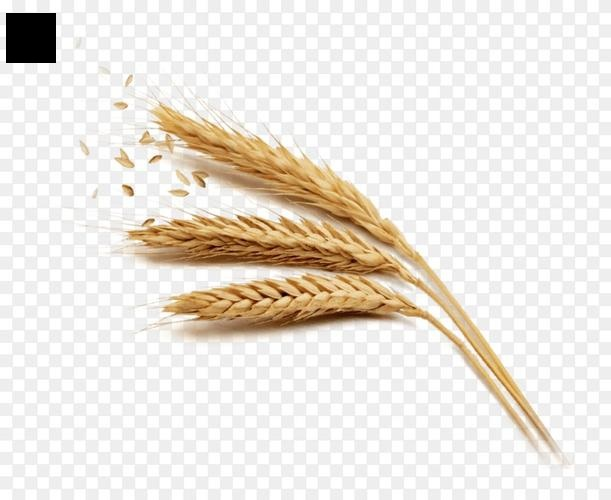wheat: (143, 102, 408, 248), (100, 204, 417, 278), (138, 272, 425, 319)
